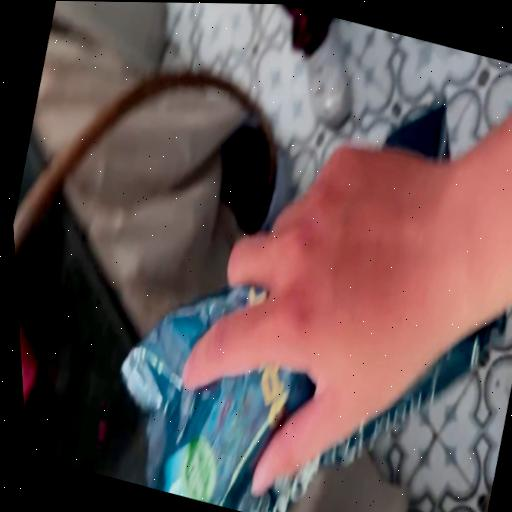cafe_hat: (123, 286, 505, 512), (386, 106, 449, 160)
